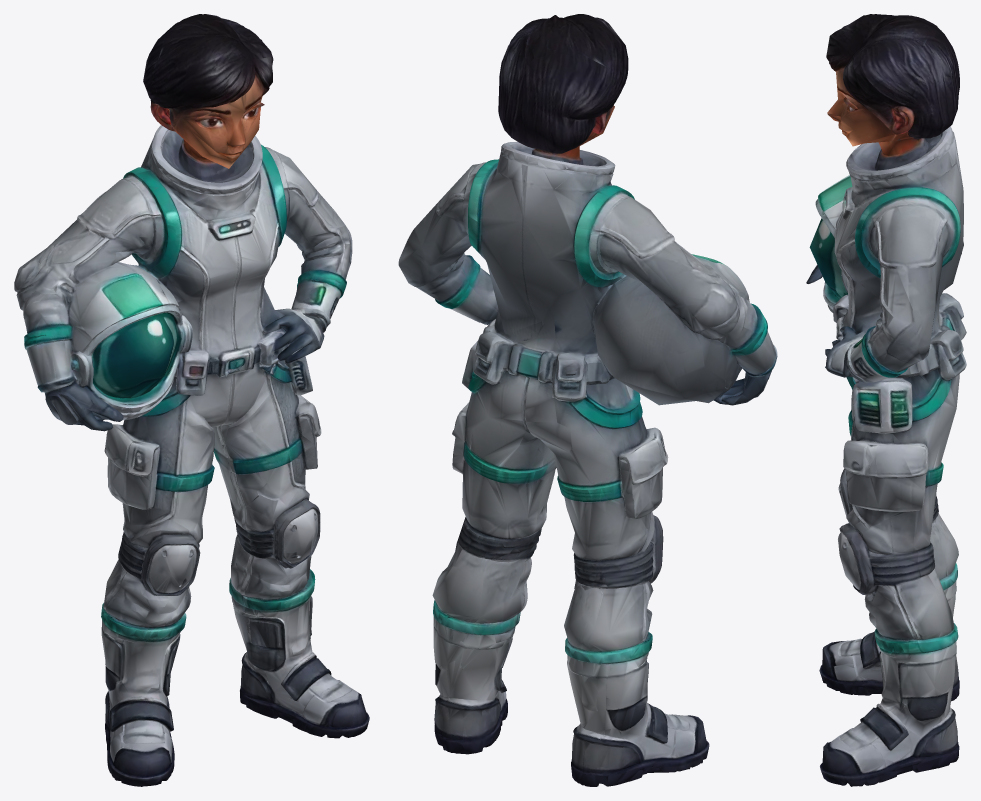
The model's file is avatar-taro.glb.
3 renders of one model, left to right at view 1: azimuth 30°, elevation 25°; view 2: azimuth 150°, elevation 25°; view 3: azimuth 270°, elevation 25°, orthographic. The views are drawn at different scales.
Parts seen in each view (by area): view 1: model; view 2: model; view 3: model.
Part boxes in pixels (x1,y1,x2,y2): model: (14, 14, 369, 786); model: (398, 14, 777, 786); model: (806, 14, 966, 786).
Size of the model in its own units: 0.9363 by 1.9 by 0.3897.
1 material, 1 textured.
